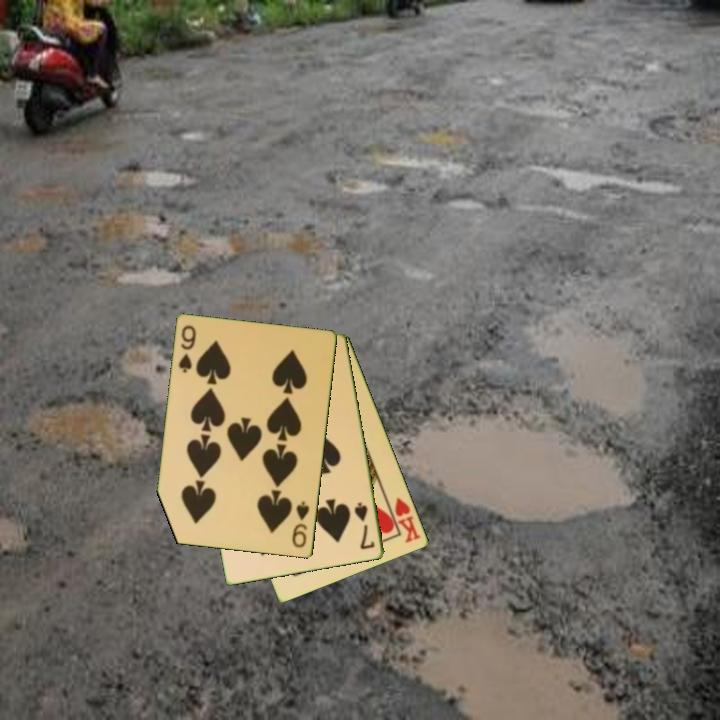7s: (351, 499, 378, 552)
9s: (175, 322, 199, 376), (289, 498, 312, 551)
Kh: (384, 494, 424, 546)
